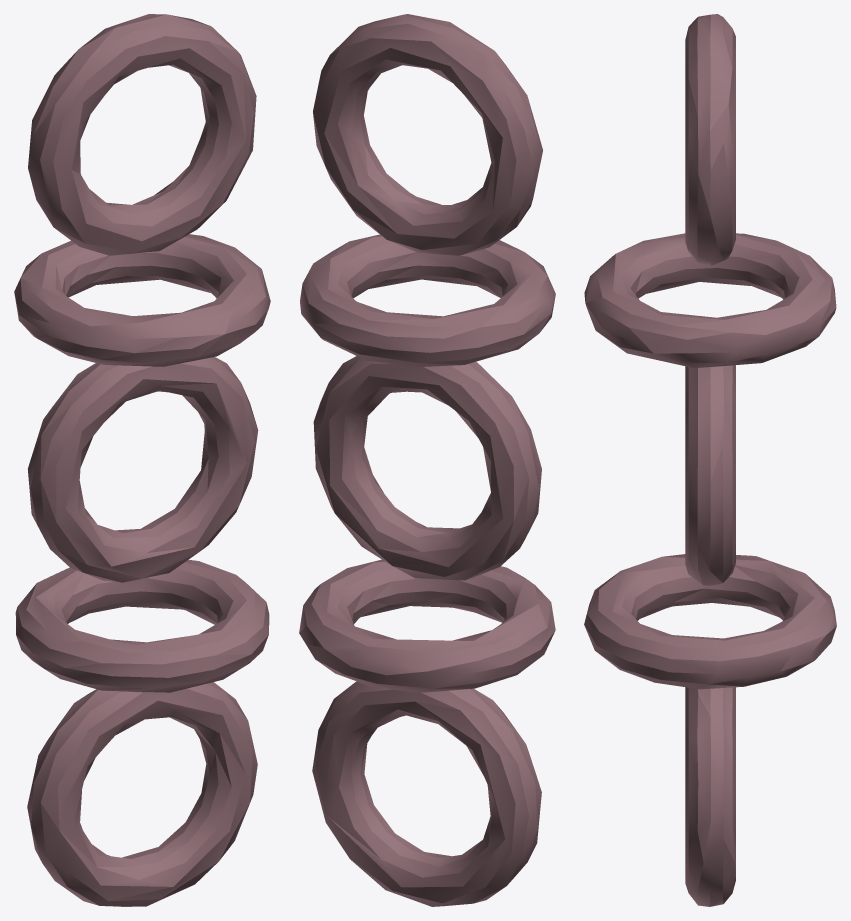
The model's file is SM_Schlachthof_Chain_LOD1.fbx.
The picture shows the model from 3 angles, left to right: view 1: azimuth 30°, elevation 25°; view 2: azimuth 150°, elevation 25°; view 3: azimuth 270°, elevation 25°; orthographic projection.
Visible parts, largest first — view 1: SM_Schlachthof_Chain_LOD1; view 2: SM_Schlachthof_Chain_LOD1; view 3: SM_Schlachthof_Chain_LOD1.
Part boxes in pixels (left/top/right/bottom): SM_Schlachthof_Chain_LOD1: left=14, top=14, right=270, bottom=906; SM_Schlachthof_Chain_LOD1: left=299, top=14, right=555, bottom=906; SM_Schlachthof_Chain_LOD1: left=584, top=14, right=836, bottom=906.
Size of the model in its own units: 0.6023 by 2.27 by 0.6.
